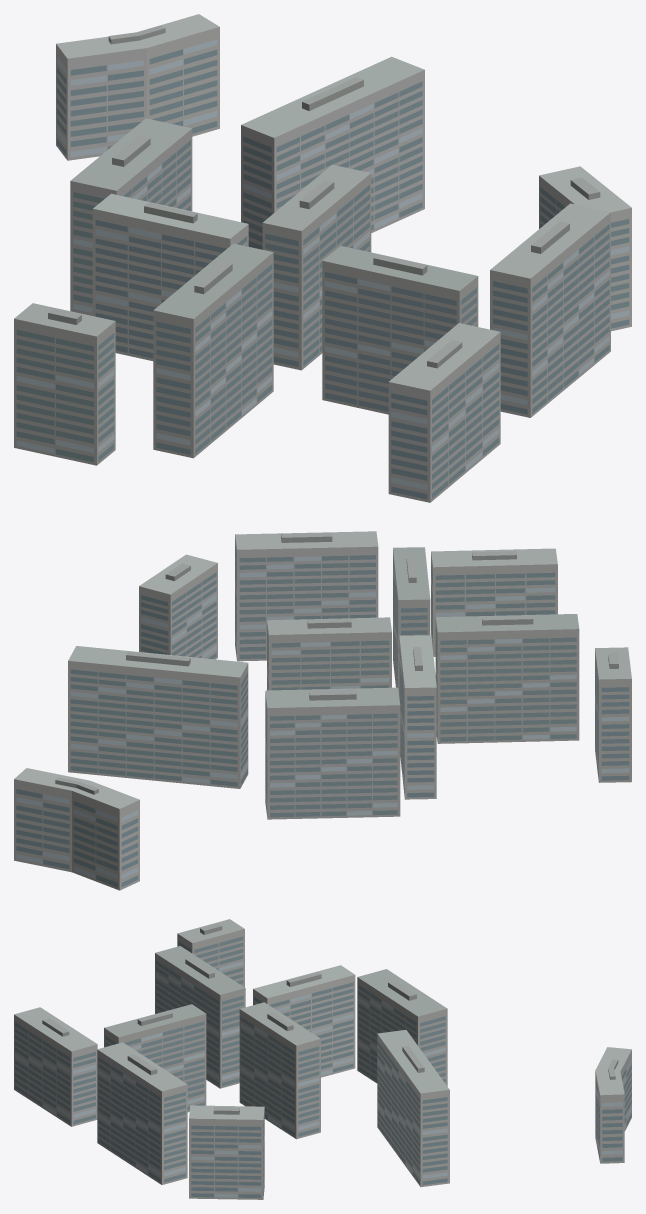
The model's file is apt-a12012101.glb.
3 renders of one model, top to bottom at view 1: azimuth 30°, elevation 25°; view 2: azimuth 150°, elevation 25°; view 3: azimuth 270°, elevation 25°, orthographic. The views are drawn at different scales.
Parts seen in each view (by area): view 1: apt-a12012101; view 2: apt-a12012101; view 3: apt-a12012101.
Boxes of the visible parts, x1,y1,x2,y2 form: apt-a12012101: [14, 14, 631, 502]; apt-a12012101: [14, 531, 631, 890]; apt-a12012101: [14, 919, 631, 1199].
Size of the model in its own units: 174 by 41 by 234.
